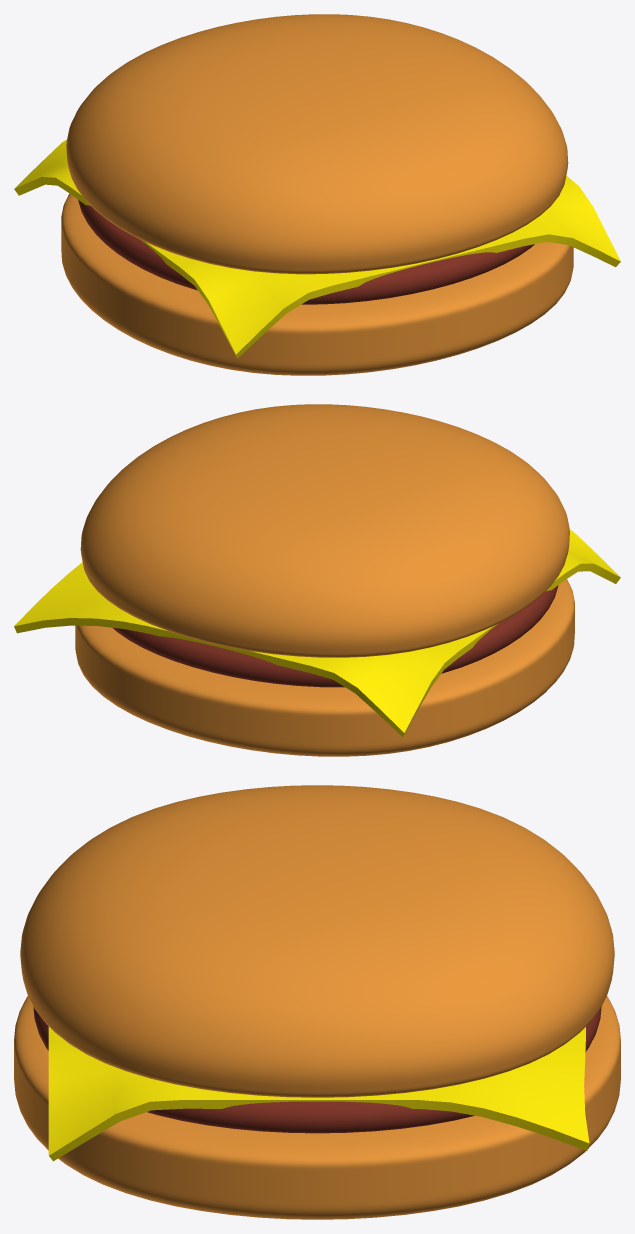
Rendered from hamburger.glb.
3 renders of one model, top to bottom at view 1: azimuth 30°, elevation 25°; view 2: azimuth 150°, elevation 25°; view 3: azimuth 270°, elevation 25°, orthographic. The views are drawn at different scales.
Parts seen in each view (by area): view 1: 立方体.002, 立方体, 平面, 立方体.001; view 2: 立方体.002, 立方体, 平面, 立方体.001; view 3: 立方体.002, 立方体, 平面, 立方体.001.
Part boxes in pixels (x1,y1,x2,y2): 立方体.002: (66,14,568,274); 立方体: (61,193,573,375); 平面: (14,139,620,358); 立方体.001: (78,200,534,304); 立方体.002: (80,404,569,657); 立方体: (75,579,574,756); 平面: (14,530,620,736); 立方体.001: (112,585,558,687); 立方体.002: (20,785,614,1097); 立方体: (14,996,620,1219); 平面: (48,1026,589,1161); 立方体.001: (33,1007,601,1133).
Size of the model in its own units: 4.6 by 2.21 by 4.6.
